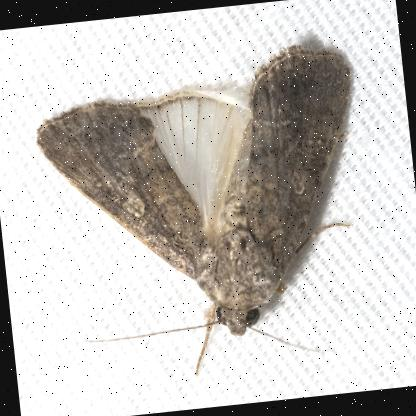Fall Armyworm Moth: (25, 37, 384, 392)
